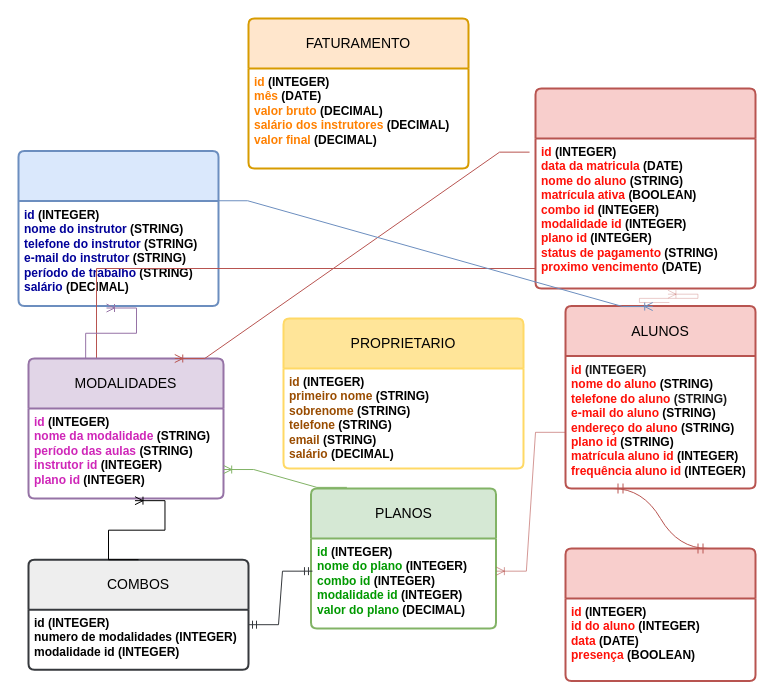
The diagram is 773 pixels wide and 699 high, and some of its shapes have lost their labels. Here are the shapes that lost their labels. From the top down, the box of each, then its label:
(534, 87, 756, 289): MATRICULAS
(17, 150, 219, 306): INSTRUTORES
(564, 547, 756, 682): HISTORICO DE PRESENÇA DO ALUNO
